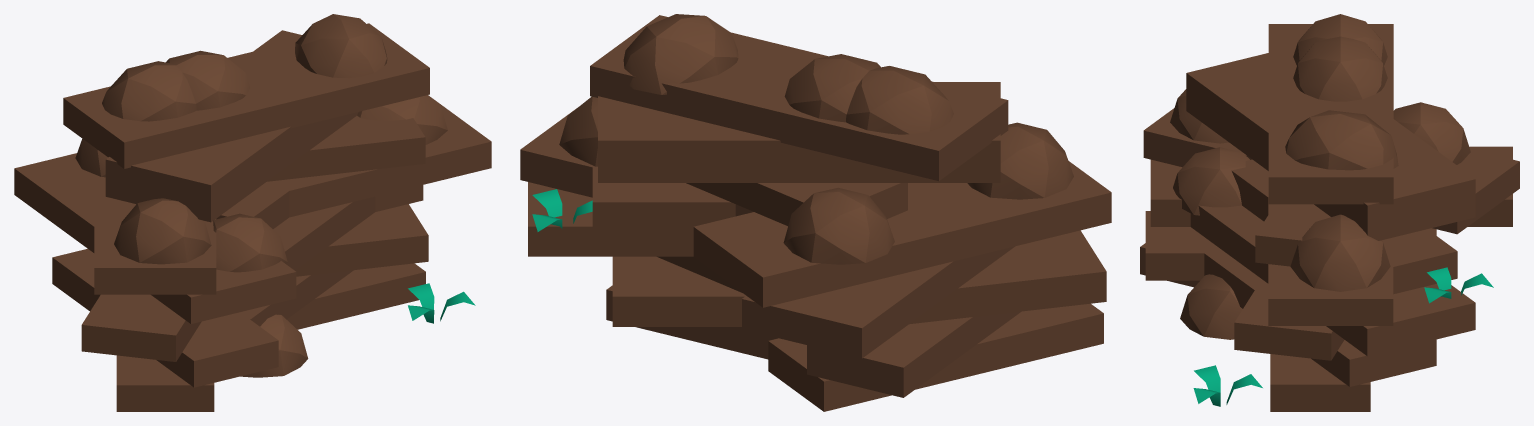
Rendered from RockStack.fbx.
The picture shows the model from 3 angles, left to right: view 1: azimuth 30°, elevation 25°; view 2: azimuth 150°, elevation 25°; view 3: azimuth 270°, elevation 25°; orthographic projection. The views are drawn at different scales.
Parts seen in each view (by area): view 1: block (×15), icosphere_half (×8), plant_large; view 2: block (×14), icosphere_half (×6), plant_large; view 3: block (×12), icosphere_half (×8), plant_large (×2).
Boxes of the visible parts, x1,y1,x2,y2 form: block (×15): (14, 23, 491, 411); icosphere_half (×8): (75, 14, 447, 377); plant_large: (408, 283, 475, 323); block (×14): (520, 15, 1111, 411); icosphere_half (×6): (559, 14, 1073, 264); plant_large: (532, 189, 592, 231); block (×12): (1143, 24, 1519, 411); icosphere_half (×8): (1170, 14, 1470, 339); plant_large (×2): (1193, 267, 1493, 406).
Size of the model in its own units: 51.69 by 30 by 37.86.
